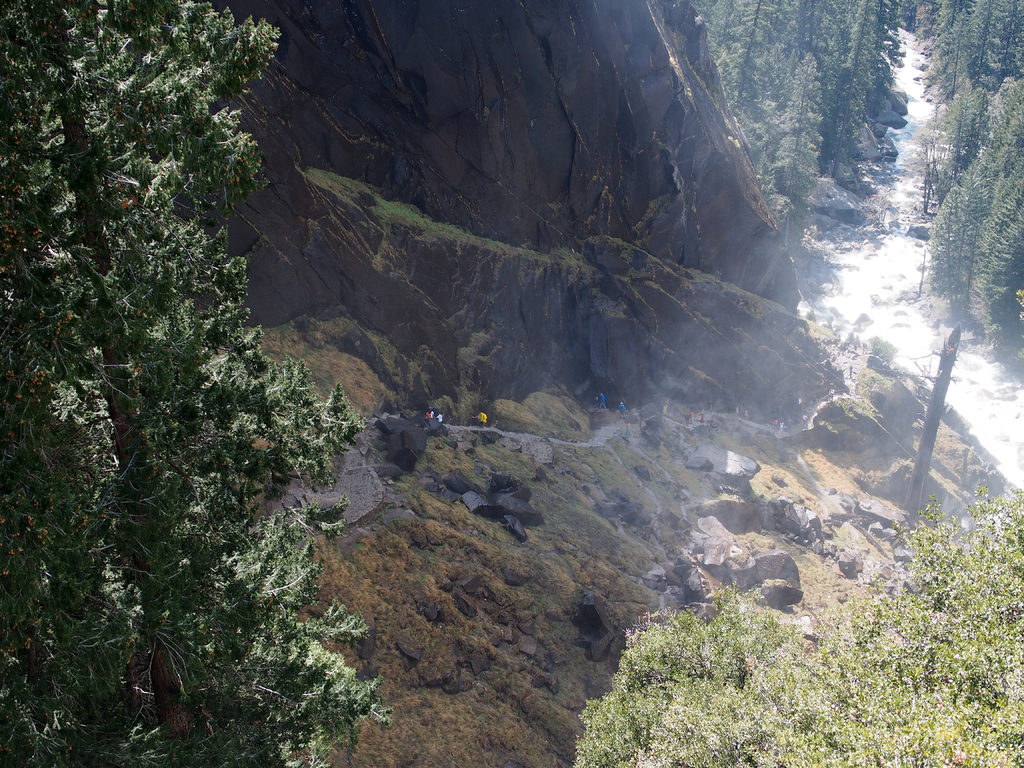Tree: (32, 23, 353, 726), (567, 478, 1023, 767), (677, 0, 1023, 370)
